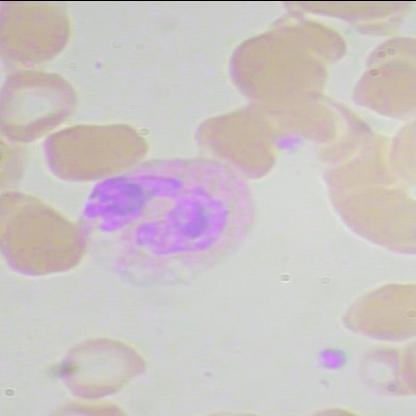Platelets: (312, 342, 349, 376), (270, 132, 303, 154)
RBC: (40, 116, 148, 186), (48, 331, 154, 400), (0, 64, 86, 145), (0, 202, 84, 280), (226, 32, 314, 102), (335, 183, 415, 258), (335, 277, 415, 346), (0, 1, 81, 69), (344, 57, 415, 121), (355, 338, 415, 408)
WBC: (70, 154, 262, 304)
